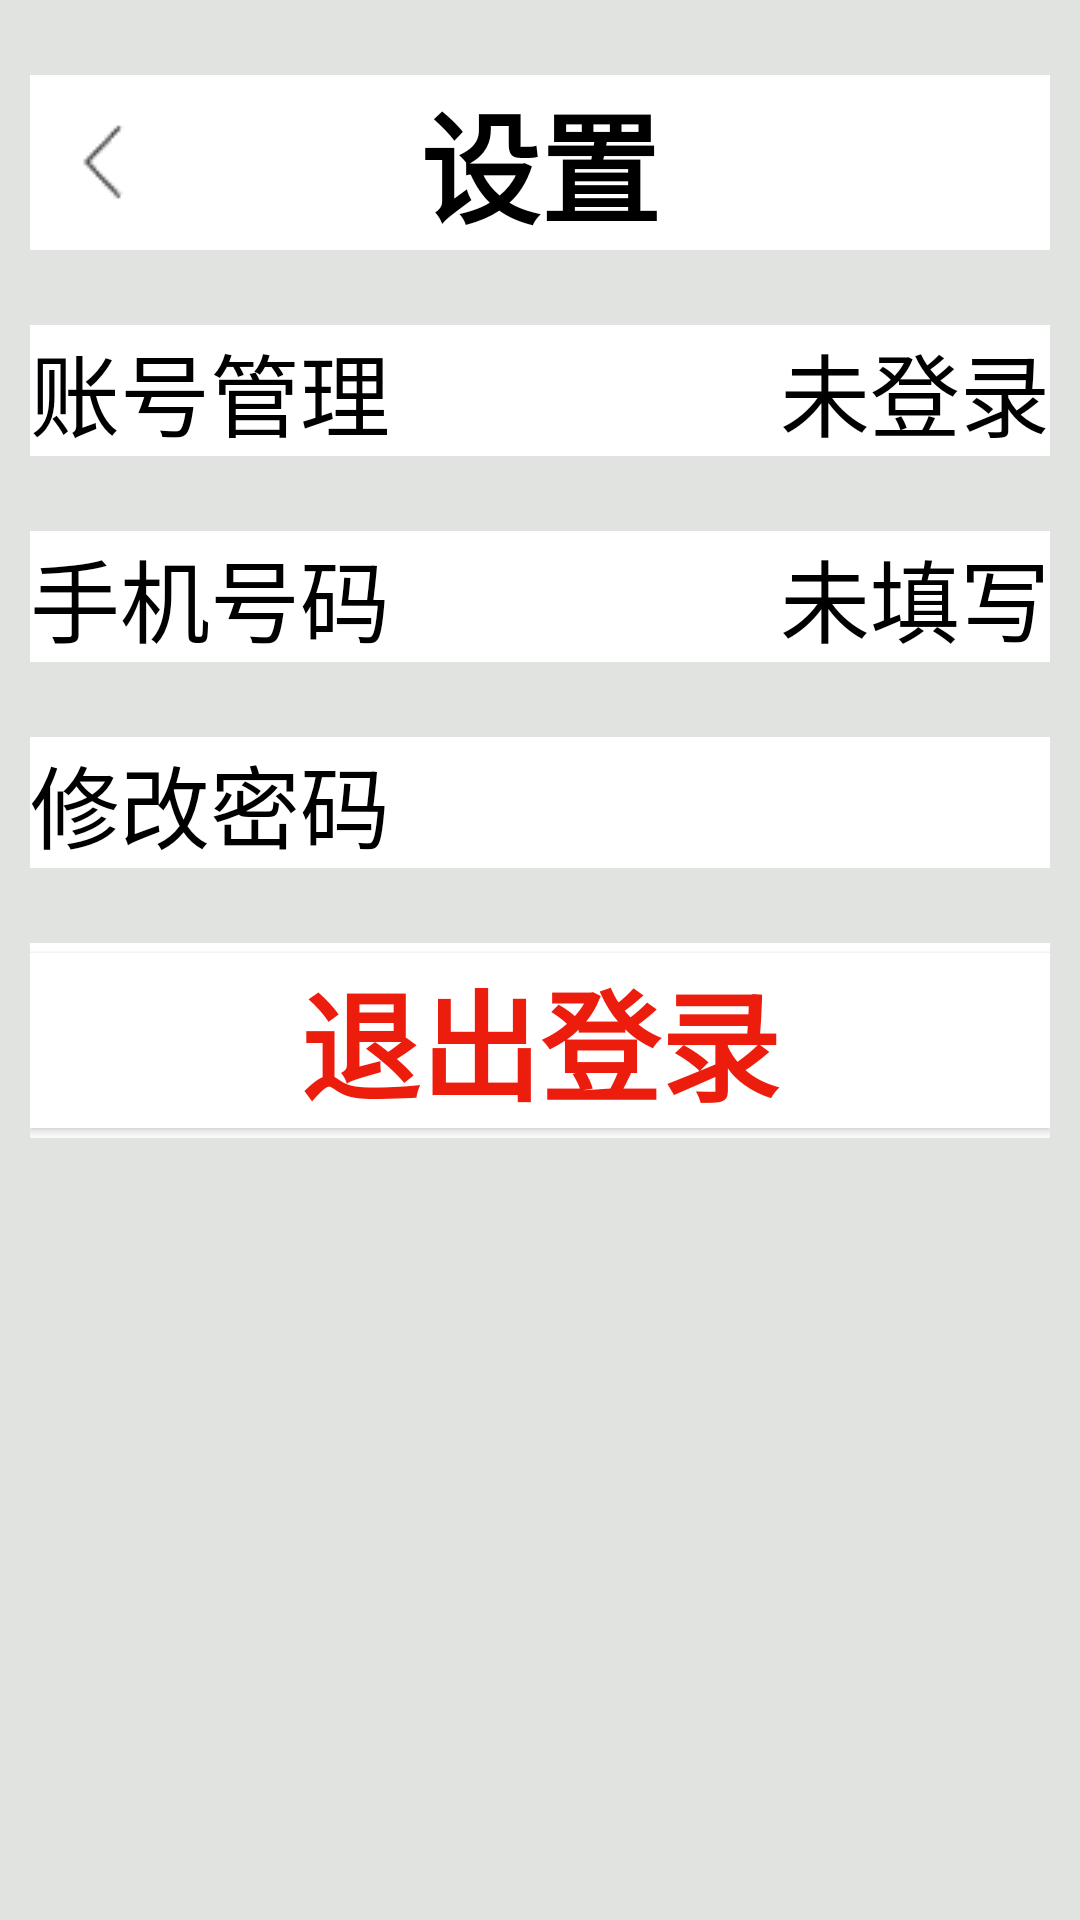

Where to tap for icons on this 1080×1920 app screen, as (x=x, y=y):
back: (x=102, y=162)
